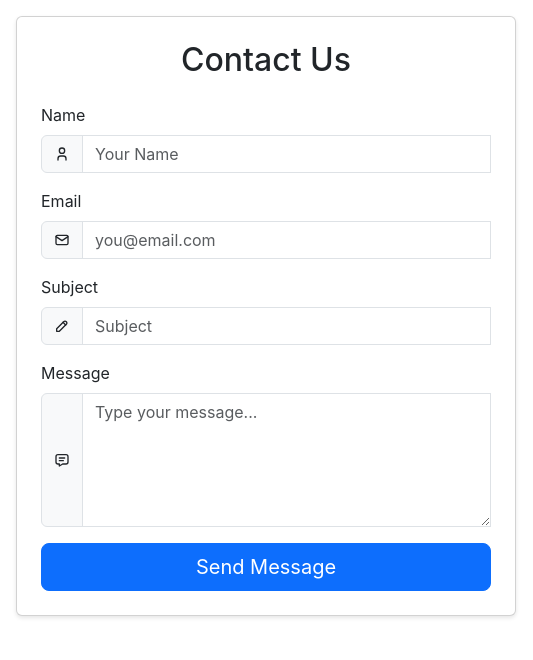
Test: Contact Page › shows error for invalid email
Type "Test User" into the field labelled "Name".
click(286, 154); type("Test User")  # box [82,135,491,173]
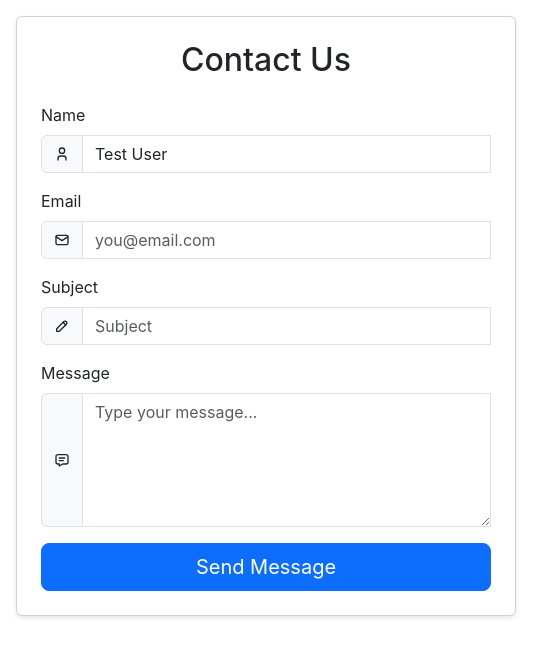
Type "invalid-email" into the field labelled "Email".
click(286, 240); type("invalid-email")  # box [82,221,491,259]
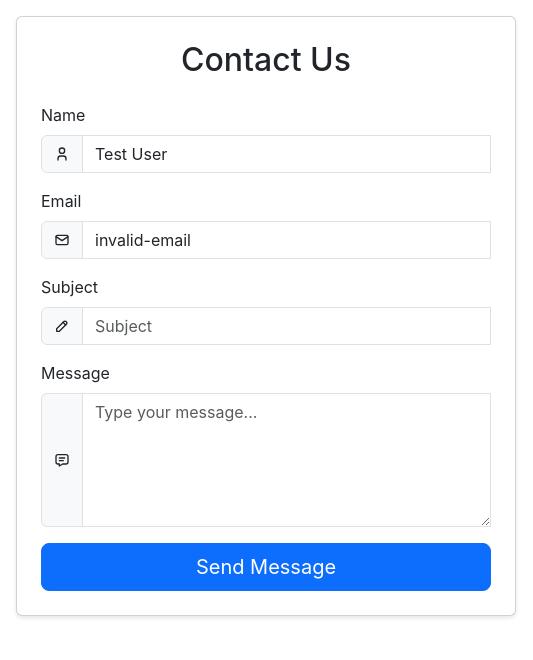
Type "Test Subject" into the field labelled "Subject".
click(286, 326); type("Test Subject")  # box [82,307,491,345]
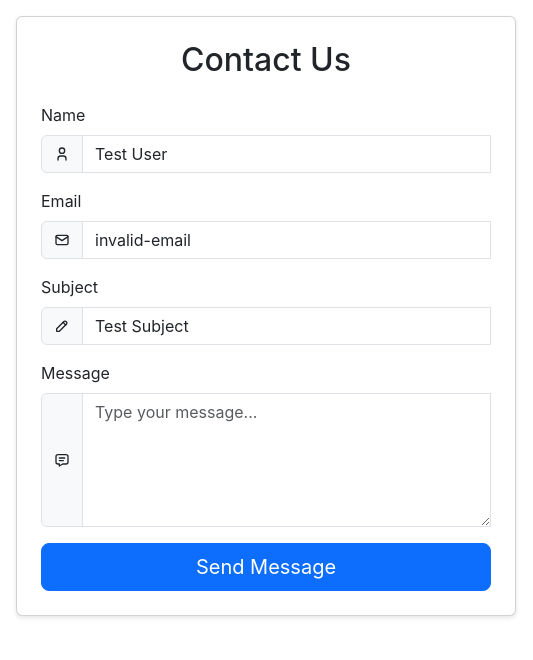
Type "Test message" into the text box labelled "Message".
click(286, 460); type("Test message")  # box [82,393,491,527]
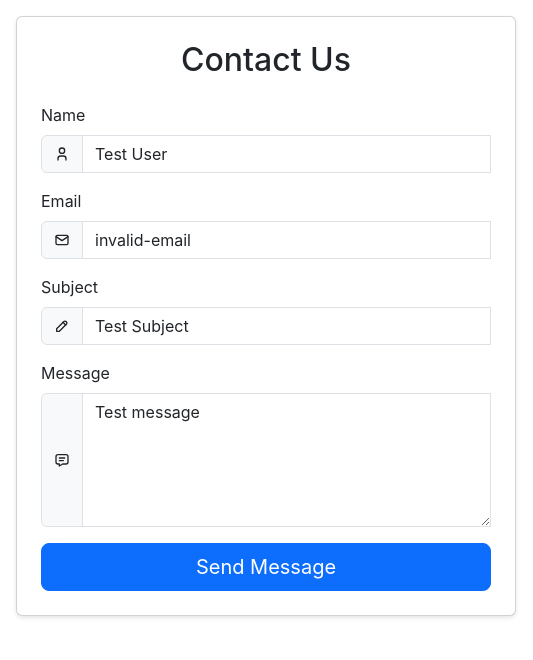
Click the button "Send Message".
click(266, 567)  # box [41,543,491,591]
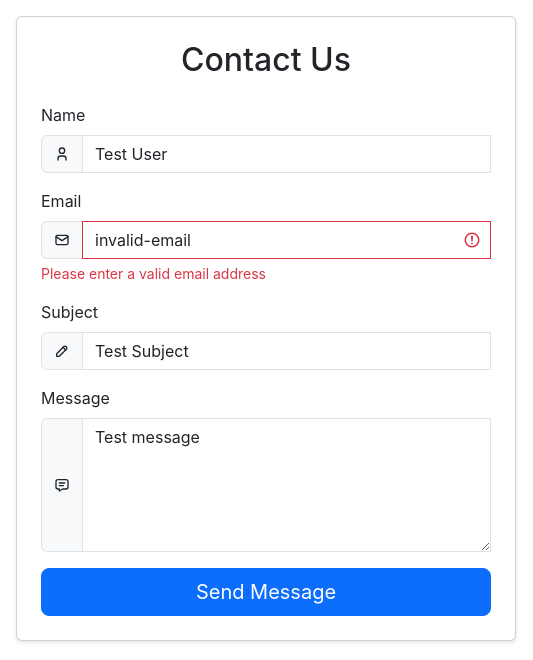
Expected: the text "Please enter a valid email address" is shown, [41,265,266,282]
